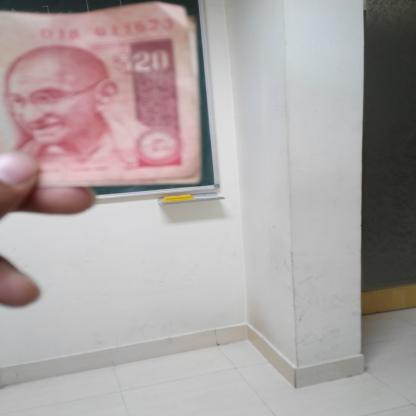Old20Front: (0, 0, 202, 187)
